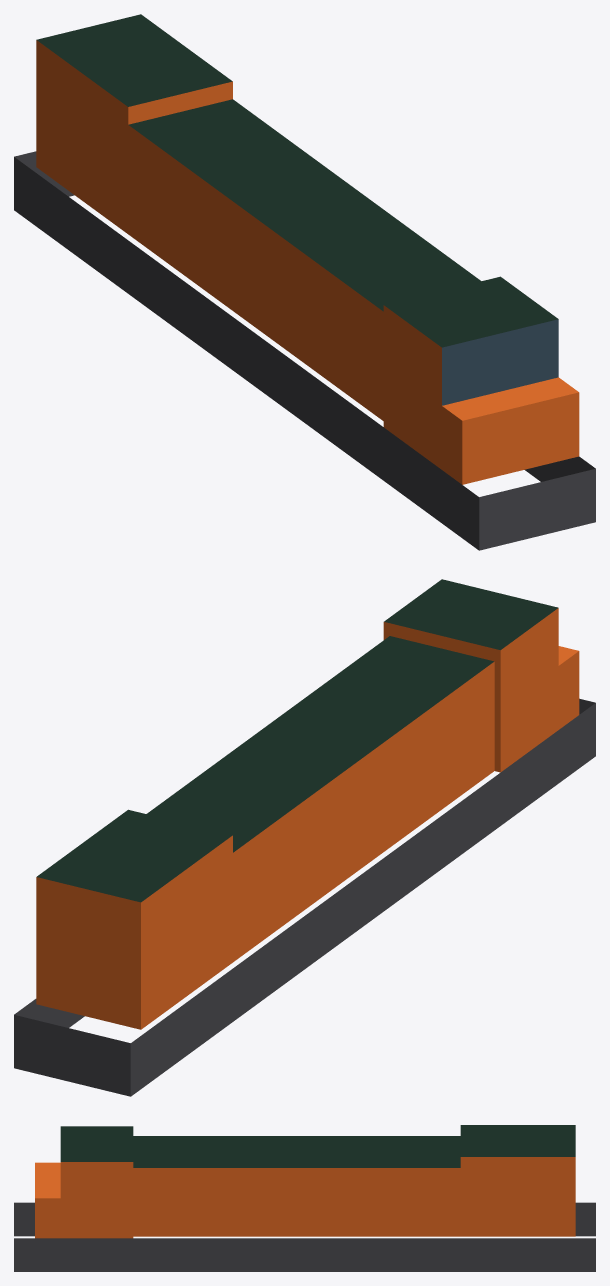
Rendered from 1_far.fbx.
3 renders of one model, top to bottom at view 1: azimuth 30°, elevation 25°; view 2: azimuth 150°, elevation 25°; view 3: azimuth 270°, elevation 25°, orthographic. The views are drawn at different scales.
Visible parts, largest first — view 1: 22_1_far; view 2: 22_1_far; view 3: 22_1_far.
Boxes of the visible parts, x1,y1,x2,y2 form: 22_1_far: [14, 14, 595, 550]; 22_1_far: [14, 579, 595, 1096]; 22_1_far: [14, 1125, 595, 1271].
Bounding box in the file's own units: 2.9 × 4.29 × 20.
